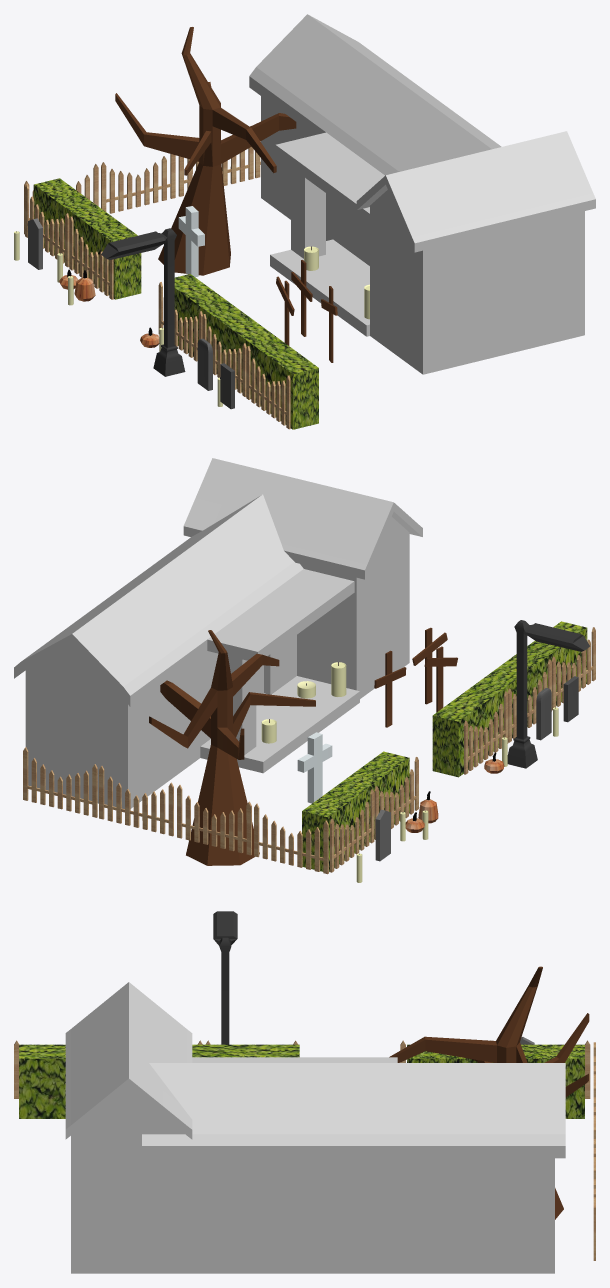
The model's file is PartyHouseGroupVariant.fbx.
3 renders of one model, top to bottom at view 1: azimuth 30°, elevation 25°; view 2: azimuth 150°, elevation 25°; view 3: azimuth 270°, elevation 25°, orthographic. The views are drawn at different scales.
Visible parts, largest first — view 1: House1, Tree, Hedge__1_, Hedge, Streetlight__2_, Cube_002_9, Cube_001_9, Cube_016, Cube_004_6, Cube_006, Cube, Cube_004_4 (+2 smaller); view 2: House1, Tree, Hedge__1_, Hedge, Streetlight__2_, Cube_002_9, Cube_006, Cube_005, Cube_004_5, Cube_004_8, Cube_004_6, Cube_004_7 (+7 smaller); view 3: House1, Hedge__1_, Tree, Hedge, Streetlight__2_.
Boxes of the visible parts, bbox=[...] form: House1: bbox=[249, 14, 595, 374]; Tree: bbox=[115, 27, 296, 275]; Hedge__1_: bbox=[174, 274, 318, 429]; Hedge: bbox=[33, 178, 141, 299]; Streetlight__2_: bbox=[101, 228, 185, 376]; Cube_002_9: bbox=[178, 206, 204, 277]; Cube_001_9: bbox=[197, 338, 212, 390]; Cube_016: bbox=[28, 218, 42, 269]; Cube_004_6: bbox=[101, 154, 175, 211]; Cube_006: bbox=[291, 260, 312, 336]; Cube: bbox=[220, 363, 234, 409]; Cube_004_4: bbox=[246, 346, 290, 429]; House1: bbox=[14, 458, 422, 808]; Tree: bbox=[149, 630, 315, 865]; Hedge__1_: bbox=[432, 621, 587, 777]; Hedge: bbox=[302, 751, 409, 871]; Streetlight__2_: bbox=[507, 620, 589, 768]; Cube_002_9: bbox=[297, 732, 332, 803]; Cube_006: bbox=[374, 650, 406, 727]; Cube_005: bbox=[412, 627, 447, 704]; Cube_004_5: bbox=[254, 803, 328, 874]; Cube_004_8: bbox=[99, 766, 173, 836]; Cube_004_6: bbox=[177, 785, 251, 855]; Cube_004_7: bbox=[23, 747, 97, 817]; House1: bbox=[65, 982, 565, 1273]; Hedge__1_: bbox=[19, 1044, 299, 1118]; Tree: bbox=[389, 966, 589, 1219]; Hedge: bbox=[407, 1044, 584, 1118]; Streetlight__2_: bbox=[213, 911, 237, 1044].
Bounding box in the file's own units: 4516 × 2319 × 4976.
8 materials, 6 textured.
